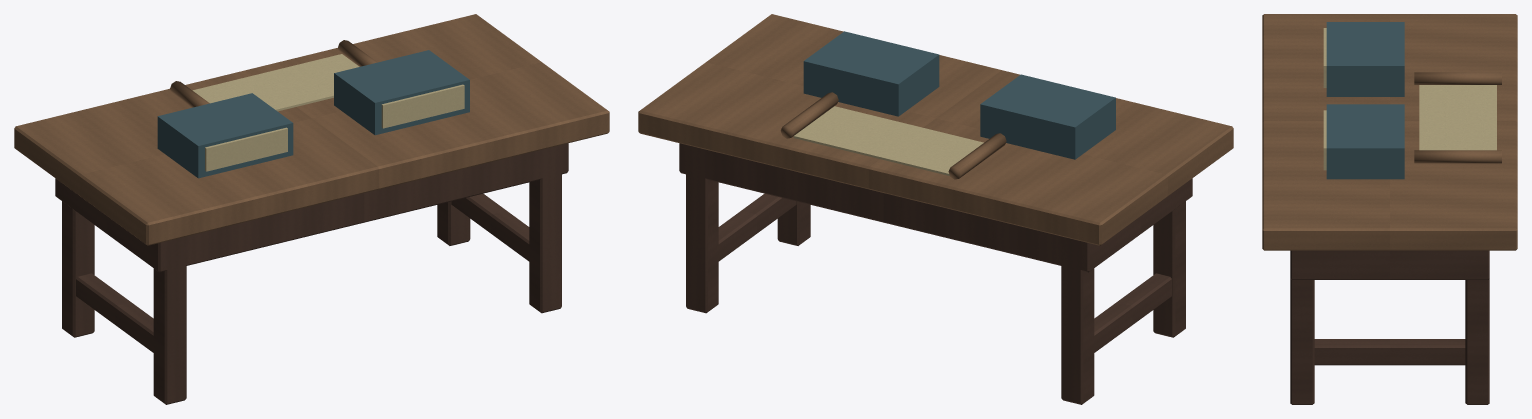
File: reading_table.glb
The picture shows the model from 3 angles, left to right: view 1: azimuth 30°, elevation 25°; view 2: azimuth 150°, elevation 25°; view 3: azimuth 270°, elevation 25°; orthographic projection. The views are drawn at different scales.
Visible parts, largest first — view 1: Scripture_CarvedWood, Scripture_Timber, Scripture_Indigo, Scripture_Paper; view 2: Scripture_CarvedWood, Scripture_Timber, Scripture_Indigo, Scripture_Paper; view 3: Scripture_CarvedWood, Scripture_Timber, Scripture_Indigo, Scripture_Paper.
Boxes of the visible parts, x1,y1,x2,y2 form: Scripture_CarvedWood: (14,14,609,245); Scripture_Timber: (55,143,568,404); Scripture_Indigo: (157,50,469,178); Scripture_Paper: (192,54,464,171); Scripture_CarvedWood: (638,14,1233,245); Scripture_Timber: (679,143,1192,404); Scripture_Indigo: (803,31,1115,159); Scripture_Paper: (793,106,983,175); Scripture_CarvedWood: (1262,14,1517,250); Scripture_Timber: (1290,250,1489,404); Scripture_Indigo: (1326,22,1404,179); Scripture_Paper: (1323,28,1496,170).
Bounding box in the file's own units: 2.1 × 1.01 × 1.05.
4 materials, 3 textured.
